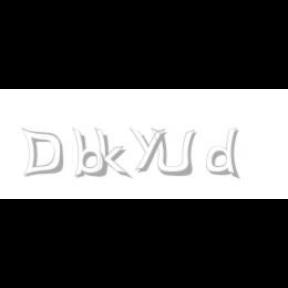D: (21, 128, 64, 178)
U: (150, 128, 196, 178)
b: (72, 128, 110, 178)
d: (206, 128, 244, 180)
k: (94, 128, 132, 180)
y: (130, 128, 170, 172)
